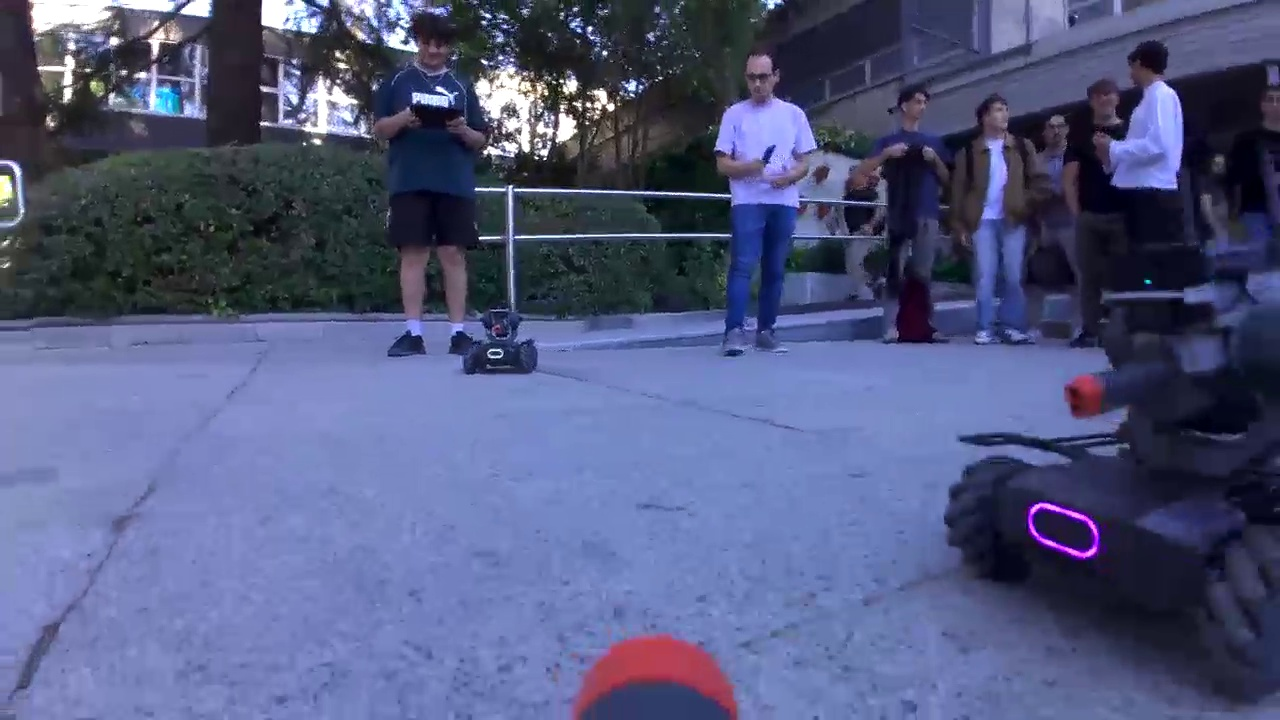robot: (929, 312, 1280, 677), (468, 309, 537, 378)
